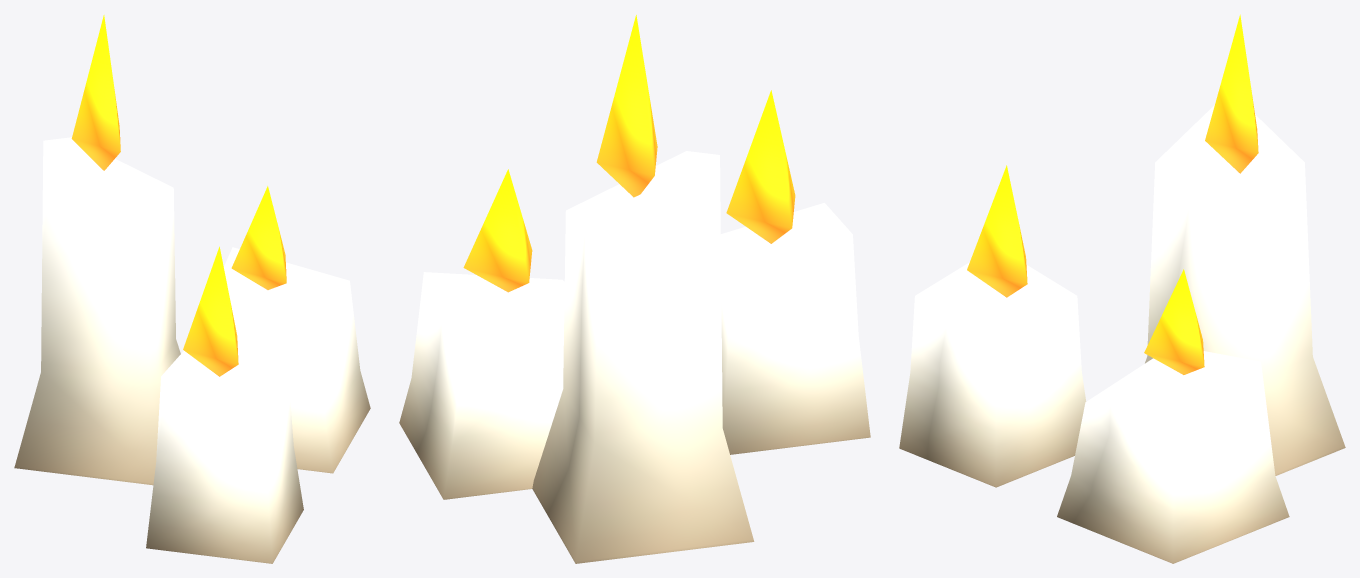
The model's file is deco_cathedral_candleGroup_A.FBX.
3 renders of one model, left to right at view 1: azimuth 30°, elevation 25°; view 2: azimuth 150°, elevation 25°; view 3: azimuth 270°, elevation 25°, orthographic. The views are drawn at different scales.
Parts seen in each view (by area): view 1: deco_cathedral_candleGroup_A; view 2: deco_cathedral_candleGroup_A; view 3: deco_cathedral_candleGroup_A.
Boxes of the visible parts, x1=… form: deco_cathedral_candleGroup_A: x1=14, y1=15, x2=370, y2=563; deco_cathedral_candleGroup_A: x1=399, y1=15, x2=870, y2=563; deco_cathedral_candleGroup_A: x1=899, y1=14, x2=1345, y2=563.
Size of the model in its own units: 0.6065 by 0.7539 by 0.7028.
Materials: 1 (1 with a texture image).
